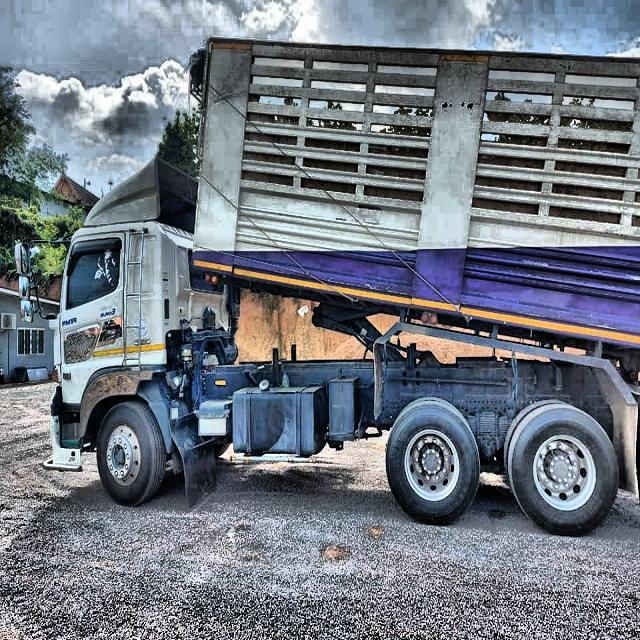trailer: (18, 26, 640, 542)
